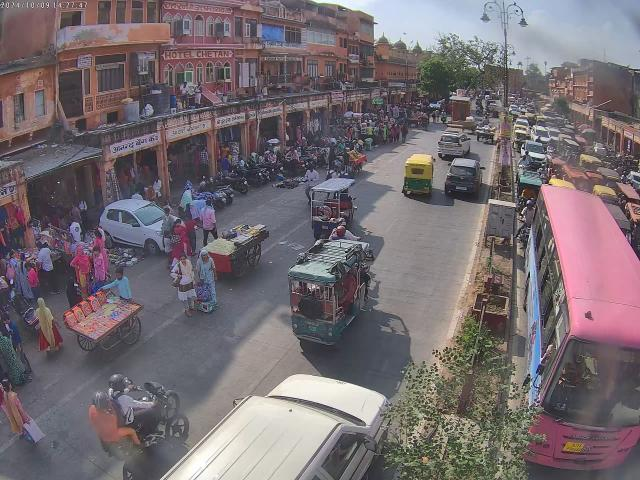auto: (290, 244, 373, 342), (309, 178, 356, 228), (401, 154, 436, 200), (620, 194, 640, 256)
bus: (528, 186, 640, 477)
car: (160, 375, 394, 480), (444, 156, 483, 198), (436, 132, 470, 159)
helmet: (91, 391, 109, 408), (108, 374, 128, 386)
license_plate: (562, 442, 586, 454)
motorbike-rider: (92, 373, 186, 454)
person: (2, 379, 41, 445), (1, 314, 32, 384), (34, 298, 62, 355), (172, 254, 196, 318), (196, 249, 219, 311), (72, 246, 91, 293), (198, 199, 218, 242), (24, 264, 42, 304), (173, 220, 190, 260), (91, 246, 107, 286), (220, 143, 233, 175), (163, 229, 174, 266), (68, 215, 82, 240), (200, 146, 210, 180), (148, 174, 162, 197)
rickshow: (476, 124, 496, 144)
scooty: (7, 279, 38, 328)
scooty-rider: (330, 222, 349, 241)
vendor: (63, 270, 141, 358), (205, 224, 268, 280), (332, 146, 366, 176)
